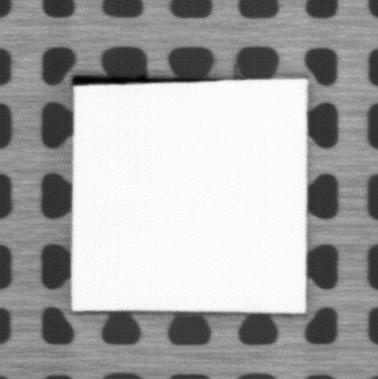DIE_BROKEN: (70, 72, 211, 89)
